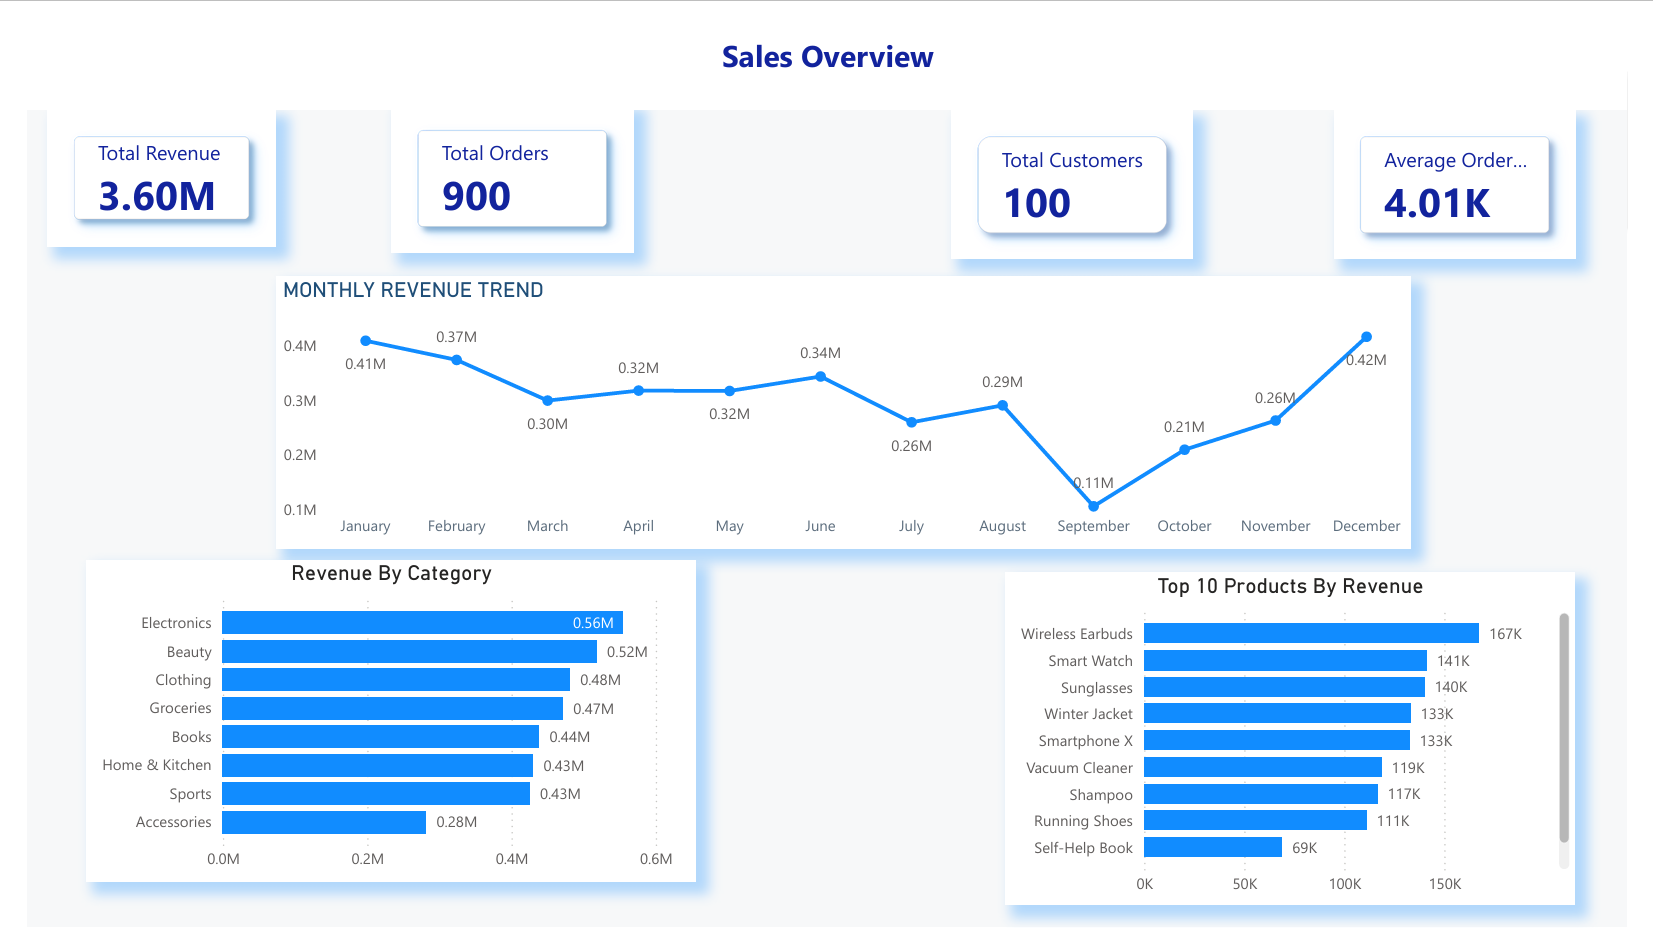

Layout of this report page (visuals, bound fields, positions):
{"tool":"powerbi","page":{"name":"Page 1","canvas":[1280,720],"ordinal":0},"visuals":[{"type":"cardVisual","fields":{"Data":["order_items.Total Orders"]},"box":[291,60.9,193.5,119.1],"z":3000},{"type":"cardVisual","fields":{"Data":["order_items.Total Customers"]},"box":[738.9,66.3,193.5,119.1],"z":3001},{"type":"cardVisual","fields":{"Data":["order_items.Average Order Value"]},"box":[1044.8,66.3,193.5,119.1],"z":3002},{"type":"cardVisual","fields":{"Data":["order_items.Total Revenue"]},"box":[16.2,66.3,182.7,108.3],"z":3003},{"type":"lineChart","title":"MONTHLY REVENUE TREND ","fields":{"Category":["orders.order_date.Variation.Date Hierarchy.Month"],"Y":["order_items.Total Revenue"]},"box":[198.9,198.9,908.1,217.9],"z":3004},{"type":"clusteredBarChart","title":"Revenue By Category","fields":{"Category":["categories.category_name"],"Y":["order_items.Total Revenue"]},"box":[47.4,426.3,487.2,257.1],"z":3005},{"type":"clusteredBarChart","title":"Top 10 Products By Revenue","fields":{"Category":["products.product_name"],"Y":["order_items.Total Revenue"]},"box":[782.2,435.8,456.1,266.6],"z":3006},{"type":"textbox","box":[0,0,1280.3,66.3],"z":3007}]}

Visuals, with their boxes in screenshot pixels (x1, y1, x2, y2), scaled from the page's 1280x720 canvas onto the 1653x938 screenshot:
cardVisual - order_items.Total Orders: (376, 79, 626, 234)
cardVisual - order_items.Total Customers: (954, 86, 1204, 242)
cardVisual - order_items.Average Order Value: (1349, 86, 1599, 242)
cardVisual - order_items.Total Revenue: (21, 86, 257, 227)
"MONTHLY REVENUE TREND " lineChart: (257, 259, 1430, 543)
"Revenue By Category" clusteredBarChart: (61, 555, 690, 890)
"Top 10 Products By Revenue" clusteredBarChart: (1010, 568, 1599, 915)
textbox: (0, 0, 1652, 86)
